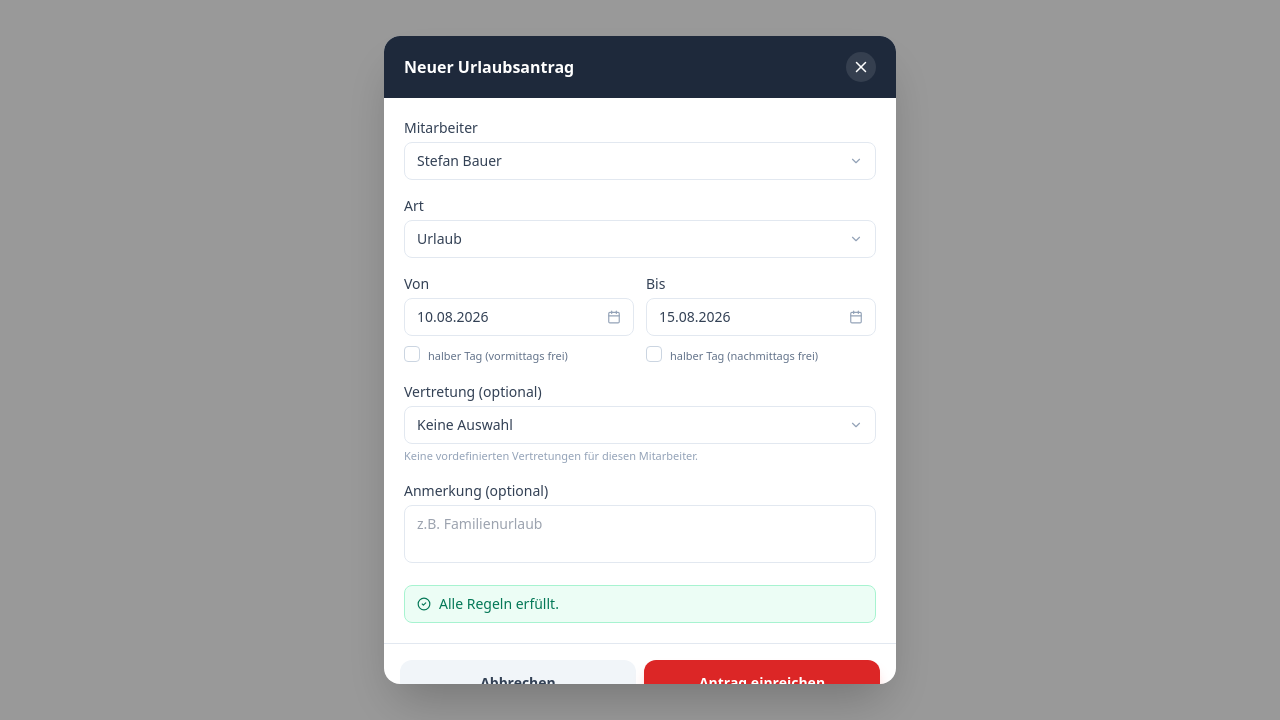
Test: LeaveRequestForm — submit › shows the submit error inline when createLeaveRequest fails
Click the button "Antrag einreichen" at (762,682), box [644,660,880,704]
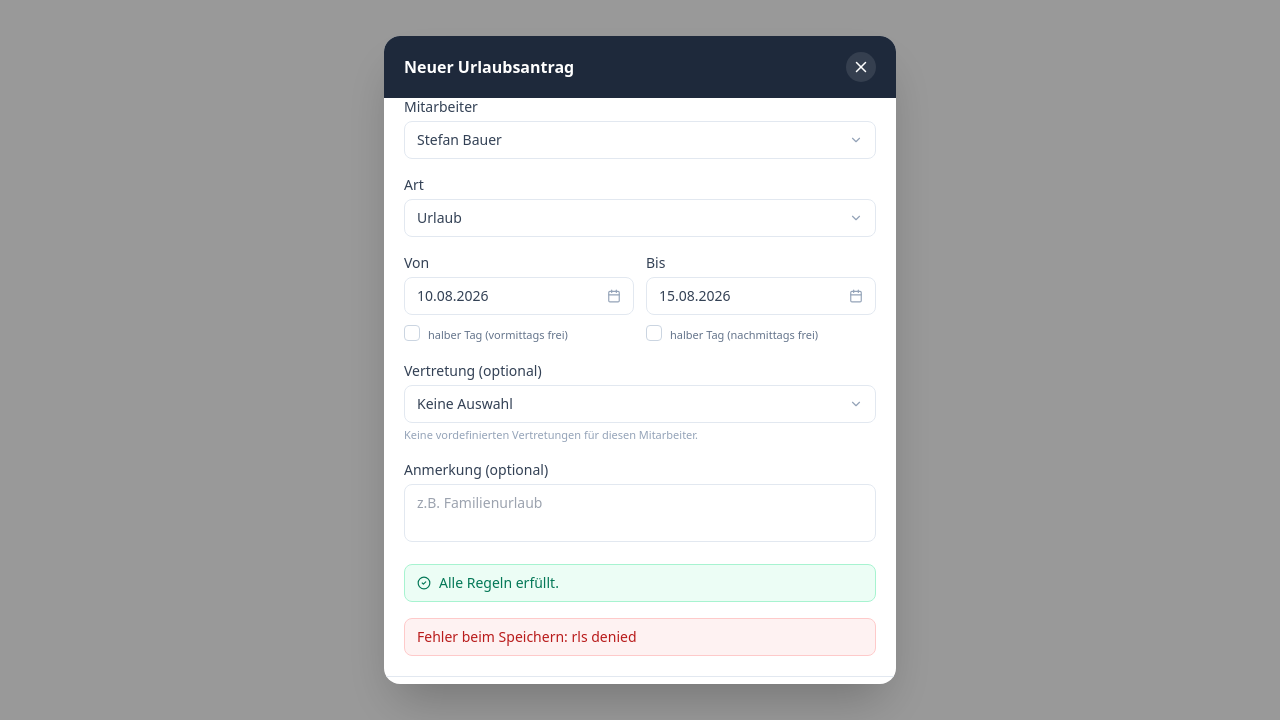
Check: the text "Fehler beim Speichern: rls denied" is shown, box [404,618,876,656]
